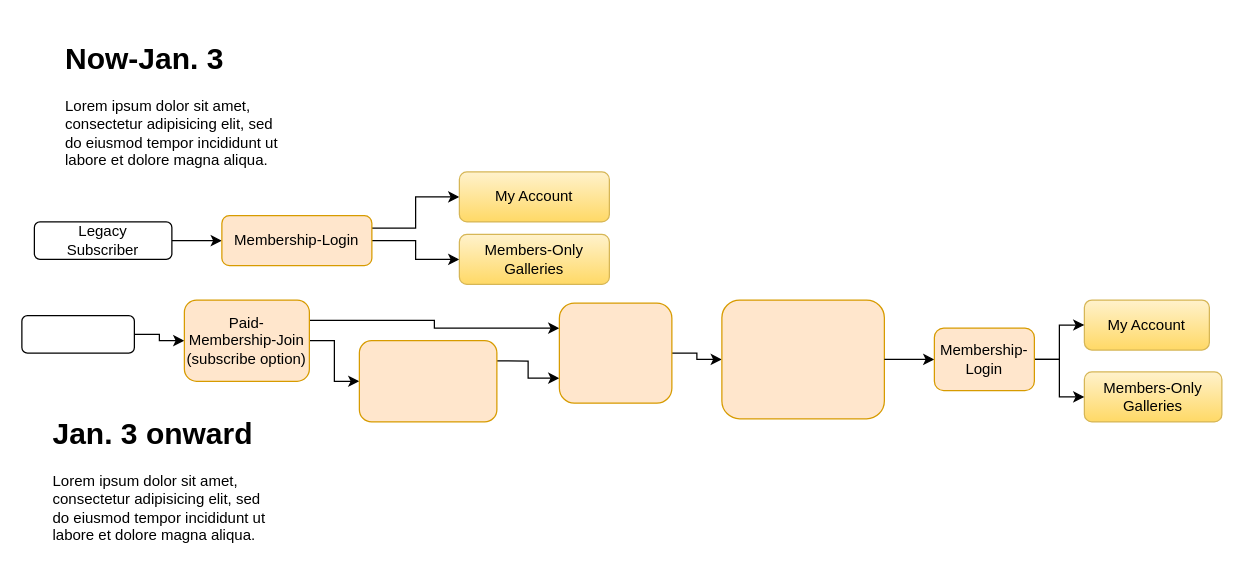
This 1244x580 diagram has some shape labels left out. The shapes that lost their labels are listed below. From the top down, each one's centre as x and y in pixels, then its label:
the point at 77,333: NEW Subscriber
the point at 615,352: Registration and Payment (to be created)
the point at 802,359: New Subscriber Welcome Page ("Registration Successful!") (to be created)
the point at 427,380: Paid-Membership-Join-Info (subscribe option)
